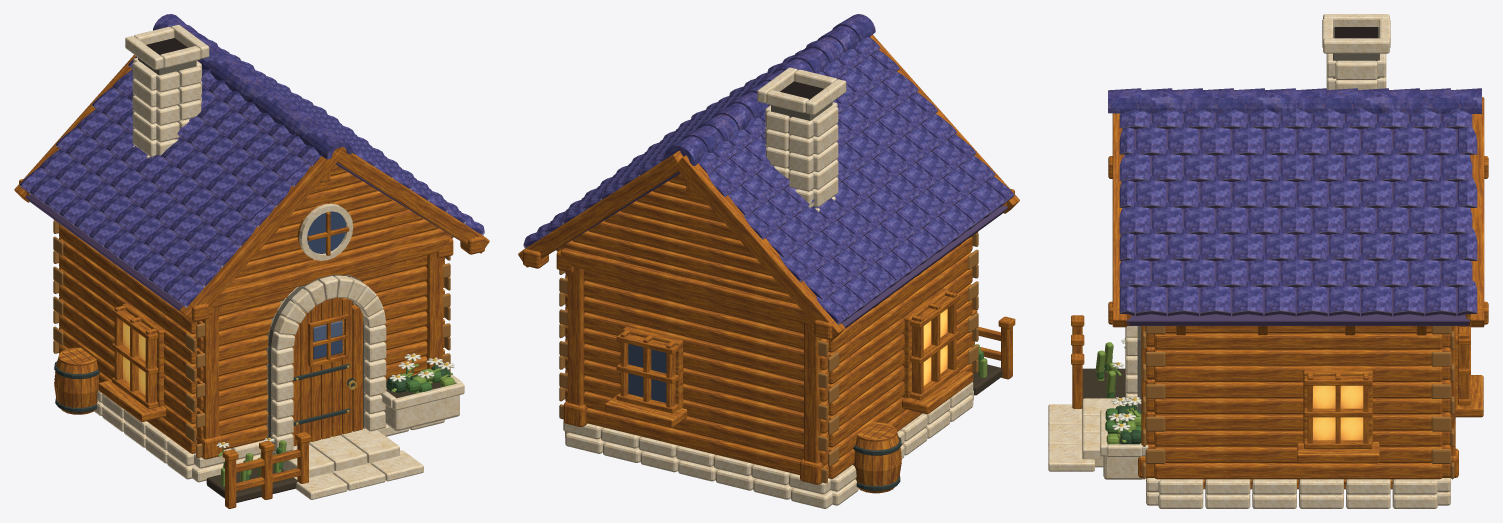
3 views of the same model, side by side, from view 1: azimuth 30°, elevation 25°; view 2: azimuth 150°, elevation 25°; view 3: azimuth 270°, elevation 25° (orthographic). The views are drawn at different scales.
Visible parts, largest first — view 1: Violet roof__study_violet, Oak frame__study_timber, Log walls__study_oak, Stone entrance__study_stone_light, Log walls__study_oak_warm, Door leaf__study_door_oak, Chimney__study_stone_light, Log walls__study_oak_light, Gable logs__study_oak, Ridge caps__study_violet_light, Gable logs__study_oak_light, Windows__study_oak_light (+21 smaller); view 2: Violet roof__study_violet, Log walls__study_oak_warm, Oak frame__study_timber, Log walls__study_oak, Gable logs__study_oak, Log walls__study_oak_light, Chimney__study_stone_light, Windows__study_oak_light, Ridge caps__study_violet_light, Masonry__study_stone_light, Windows__study_timber, Gable logs__study_oak_light (+12 smaller); view 3: Violet roof__study_violet, Log walls__study_oak_warm, Log walls__study_oak, Ridge caps__study_violet_light, Log walls__study_oak_light, Masonry__study_stone, Oak frame__study_timber, Stone entrance__study_stone_light, Windows__study_oak_light, Chimney__study_stone_light, Log walls__study_endgrain, Masonry__study_stone_light (+10 smaller).
Part boxes in pixels (bbox=[...]): Violet roof__study_violet: bbox=[19, 33, 484, 311]; Oak frame__study_timber: bbox=[14, 54, 489, 438]; Log walls__study_oak: bbox=[59, 225, 444, 438]; Stone entrance__study_stone_light: bbox=[266, 275, 423, 499]; Log walls__study_oak_warm: bbox=[59, 224, 444, 423]; Door leaf__study_door_oak: bbox=[291, 297, 362, 446]; Chimney__study_stone_light: bbox=[125, 25, 209, 158]; Log walls__study_oak_light: bbox=[59, 255, 444, 453]; Gable logs__study_oak: bbox=[234, 165, 438, 278]; Ridge caps__study_violet_light: bbox=[153, 14, 352, 159]; Gable logs__study_oak_light: bbox=[226, 171, 453, 288]; Windows__study_oak_light: bbox=[98, 212, 349, 421]; Violet roof__study_violet: bbox=[523, 37, 1014, 328]; Log walls__study_oak_warm: bbox=[565, 268, 972, 478]; Oak frame__study_timber: bbox=[518, 35, 1019, 463]; Log walls__study_oak: bbox=[565, 237, 972, 458]; Gable logs__study_oak: bbox=[572, 174, 786, 293]; Log walls__study_oak_light: bbox=[565, 315, 972, 478]; Chimney__study_stone_light: bbox=[757, 67, 846, 211]; Windows__study_oak_light: bbox=[605, 291, 973, 427]; Ridge caps__study_violet_light: bbox=[664, 14, 875, 165]; Masonry__study_stone_light: bbox=[563, 382, 973, 490]; Windows__study_timber: bbox=[616, 288, 959, 413]; Gable logs__study_oak_light: bbox=[556, 181, 796, 304]; Violet roof__study_violet: bbox=[1119, 108, 1477, 325]; Log walls__study_oak_warm: bbox=[1146, 333, 1450, 479]; Log walls__study_oak: bbox=[1146, 326, 1450, 448]; Ridge caps__study_violet_light: bbox=[1108, 88, 1481, 114]; Log walls__study_oak_light: bbox=[1146, 412, 1450, 474]; Masonry__study_stone: bbox=[1146, 478, 1450, 508]; Oak frame__study_timber: bbox=[1112, 97, 1484, 455]; Stone entrance__study_stone_light: bbox=[1048, 336, 1137, 471]; Windows__study_oak_light: bbox=[1297, 326, 1483, 463]; Chimney__study_stone_light: bbox=[1322, 14, 1390, 89]; Log walls__study_endgrain: bbox=[1142, 326, 1454, 479]; Masonry__study_stone_light: bbox=[1205, 478, 1450, 508].
Size of the model in its own units: 4.9 by 5.34 by 5.55.
Materials: 28 (12 with a texture image).
